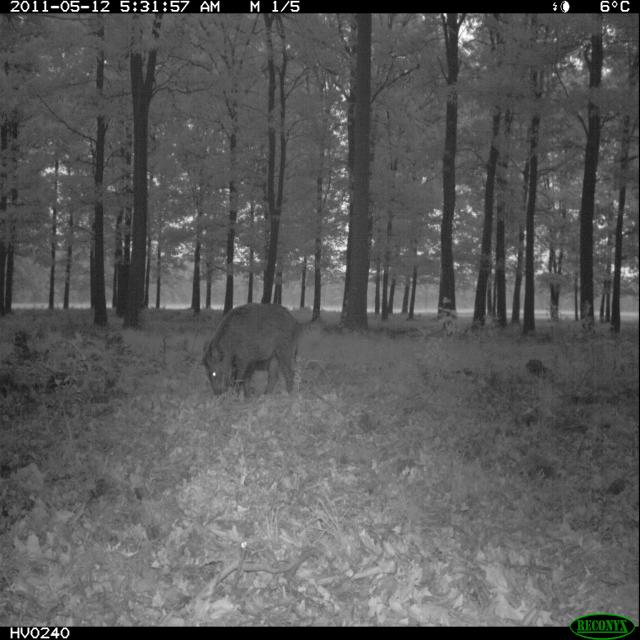boar: (181, 293, 323, 419)
